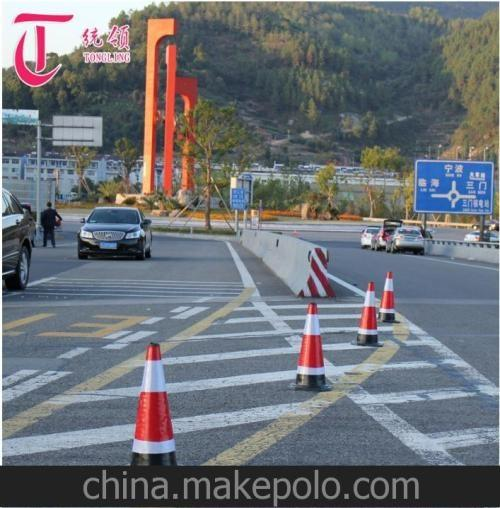cone_barrel: (123, 344, 183, 465), (288, 302, 331, 390), (353, 278, 380, 344), (376, 269, 398, 324)
